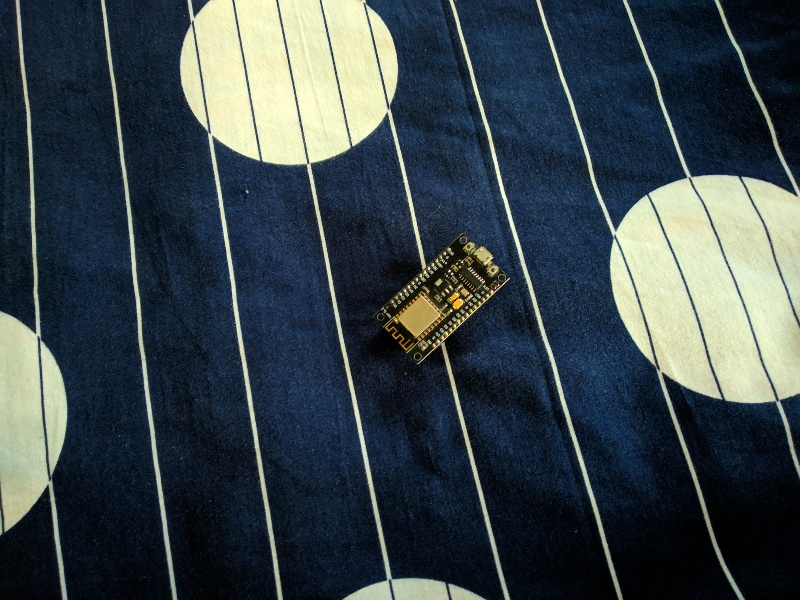NodeMCU: (369, 227, 514, 370)
